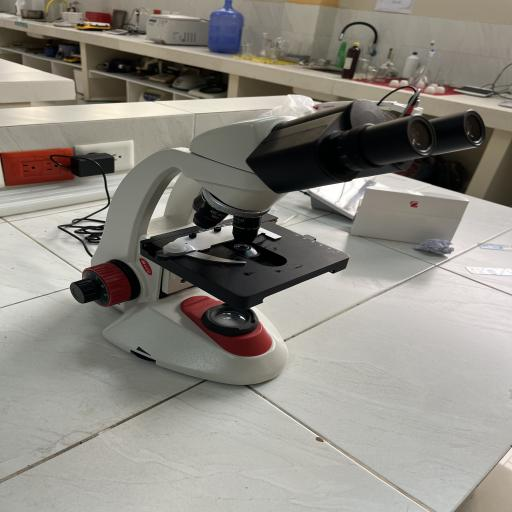Microscopio_Binocular: (62, 85, 512, 403)
